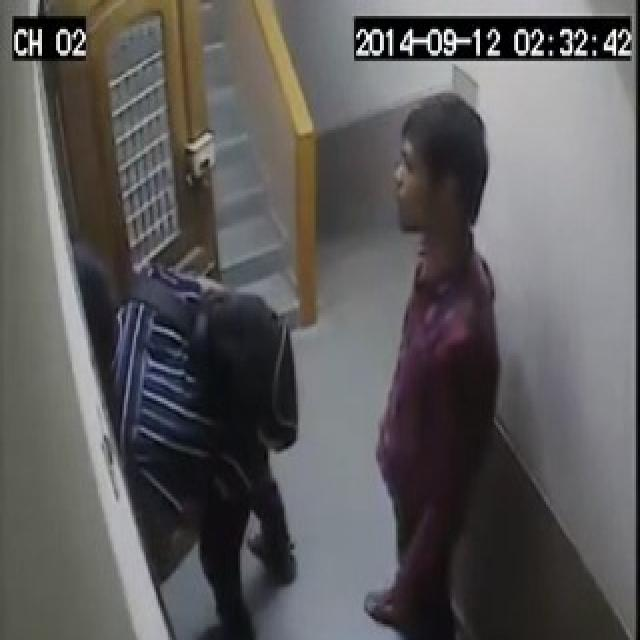thief: (59, 249, 314, 626), (371, 76, 516, 640)
